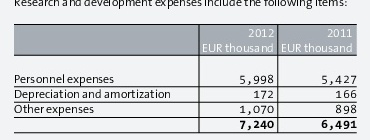table: (0, 0, 370, 140)
